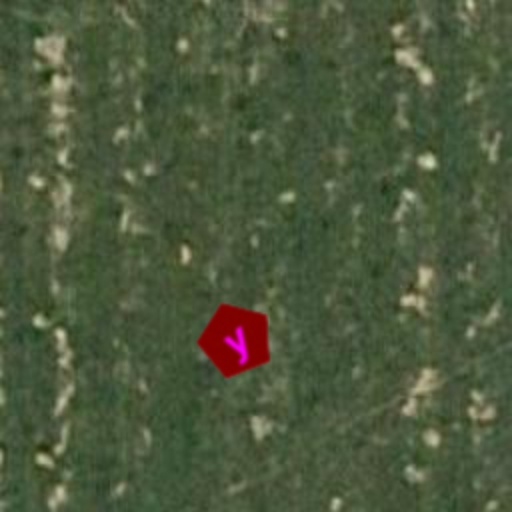pentagon: (178, 282, 294, 398)
